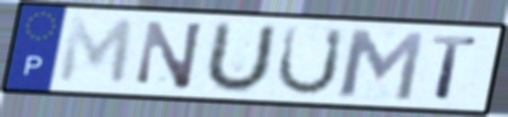M: (336, 26, 428, 103), (55, 15, 137, 88)
N: (134, 18, 207, 92)
T: (429, 33, 480, 103)
U: (199, 18, 280, 95), (272, 23, 348, 98)
